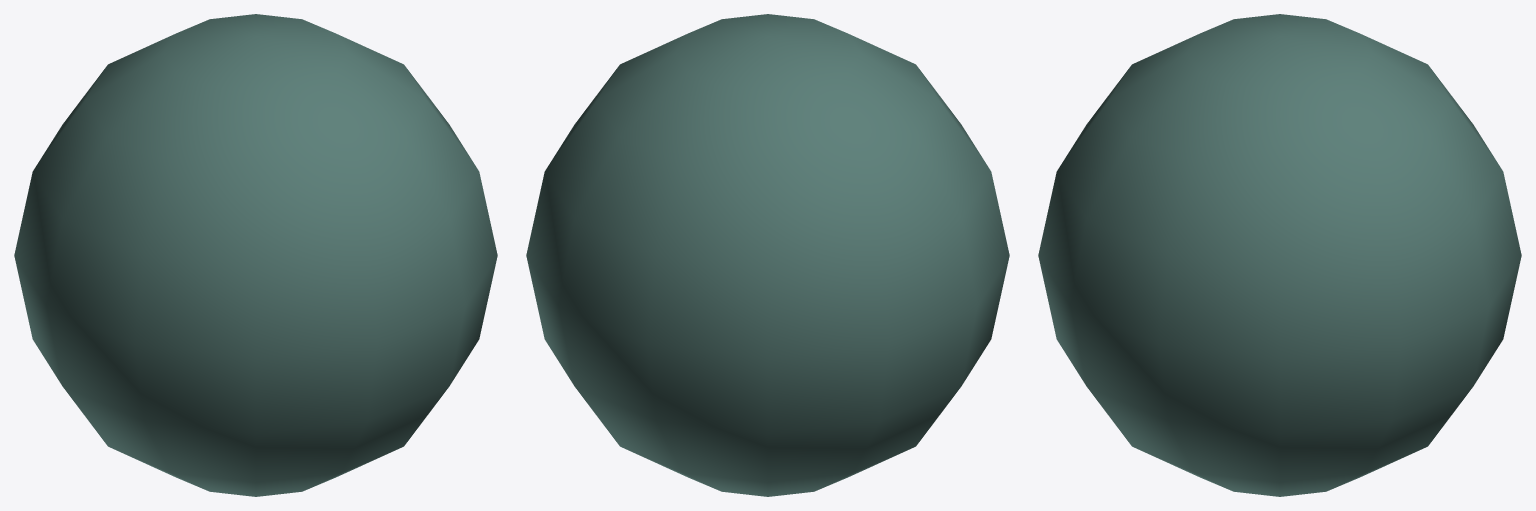
File: rock.glb
3 views of the same model, side by side, from view 1: azimuth 30°, elevation 25°; view 2: azimuth 150°, elevation 25°; view 3: azimuth 270°, elevation 25° (orthographic).
Visible parts, largest first — view 1: Rock; view 2: Rock; view 3: Rock.
Part boxes in pixels (x1,y1,x2,y2): Rock: [14, 14, 497, 496]; Rock: [526, 14, 1009, 496]; Rock: [1038, 14, 1521, 496].
Bounding box in the file's own units: 2 × 2 × 2.
